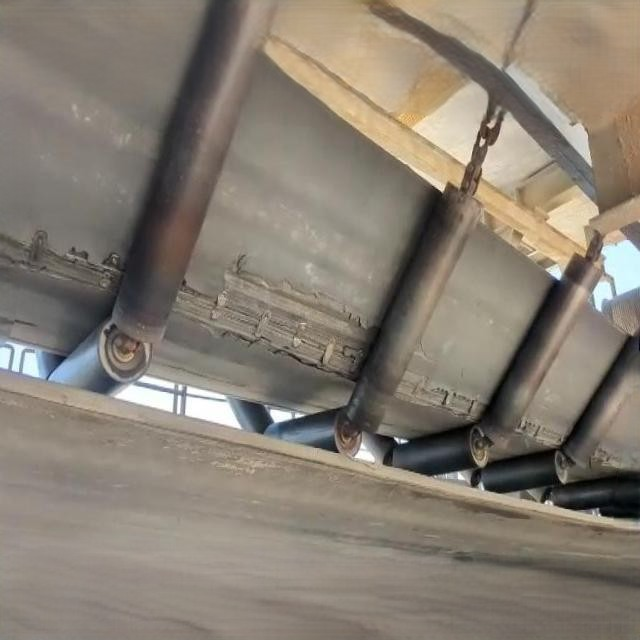Tear: (170, 249, 386, 387), (0, 223, 129, 301), (398, 339, 491, 422), (514, 412, 574, 451)
